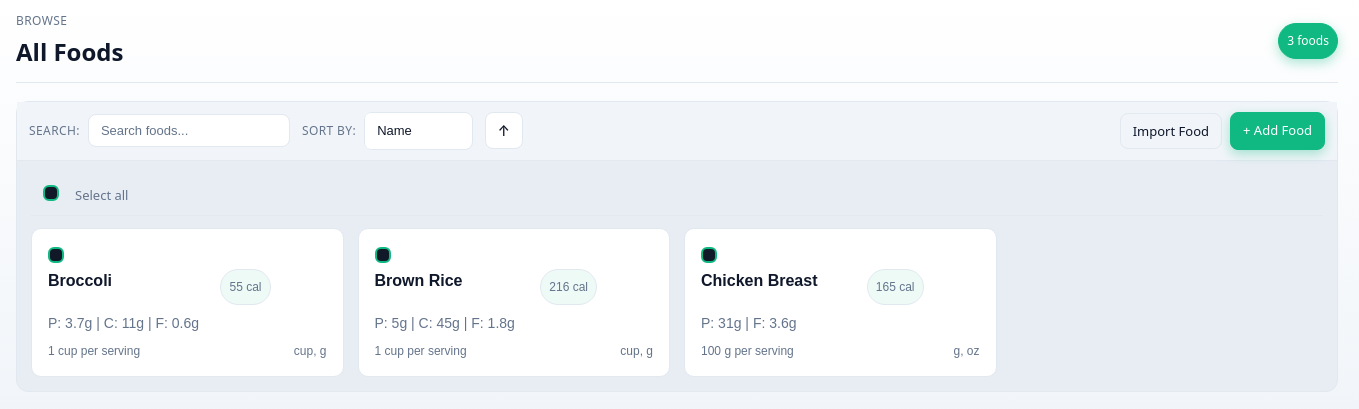
Scenario: Foods List Page › Search › filters foods by name
Type "chicken" into the field with placeholder "Search foods...".
click(189, 131); type("chicken")  # box [88,114,290,147]
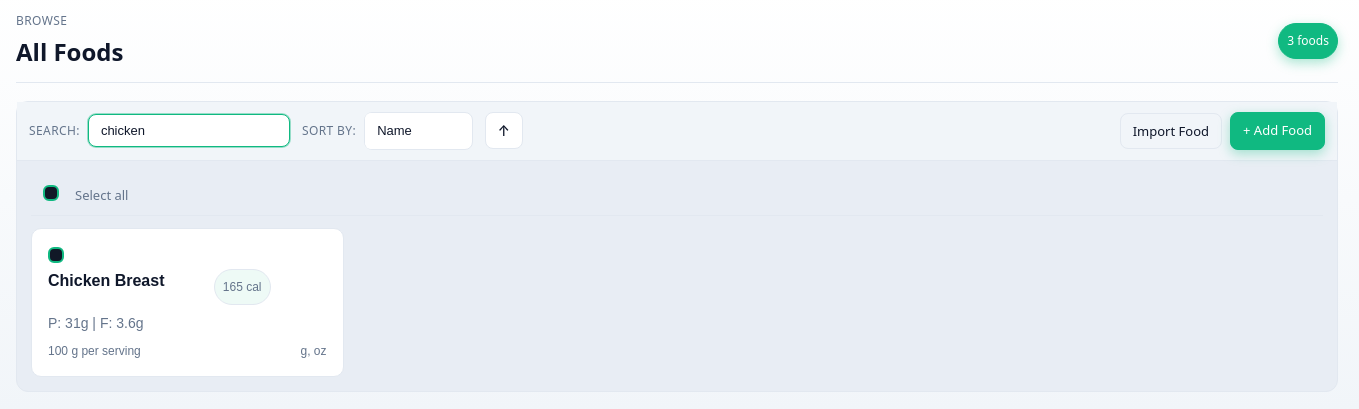
expect the heading "Chicken Breast" is shown: met, box [48,272,164,288]
expect the link "Brown Rice" is gone: met
expect the link "Broccoli" is gone: met
